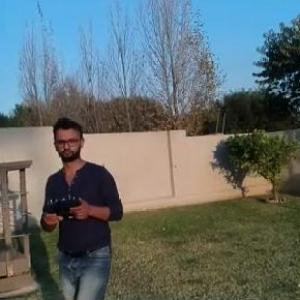follow: (42, 113, 134, 299)
